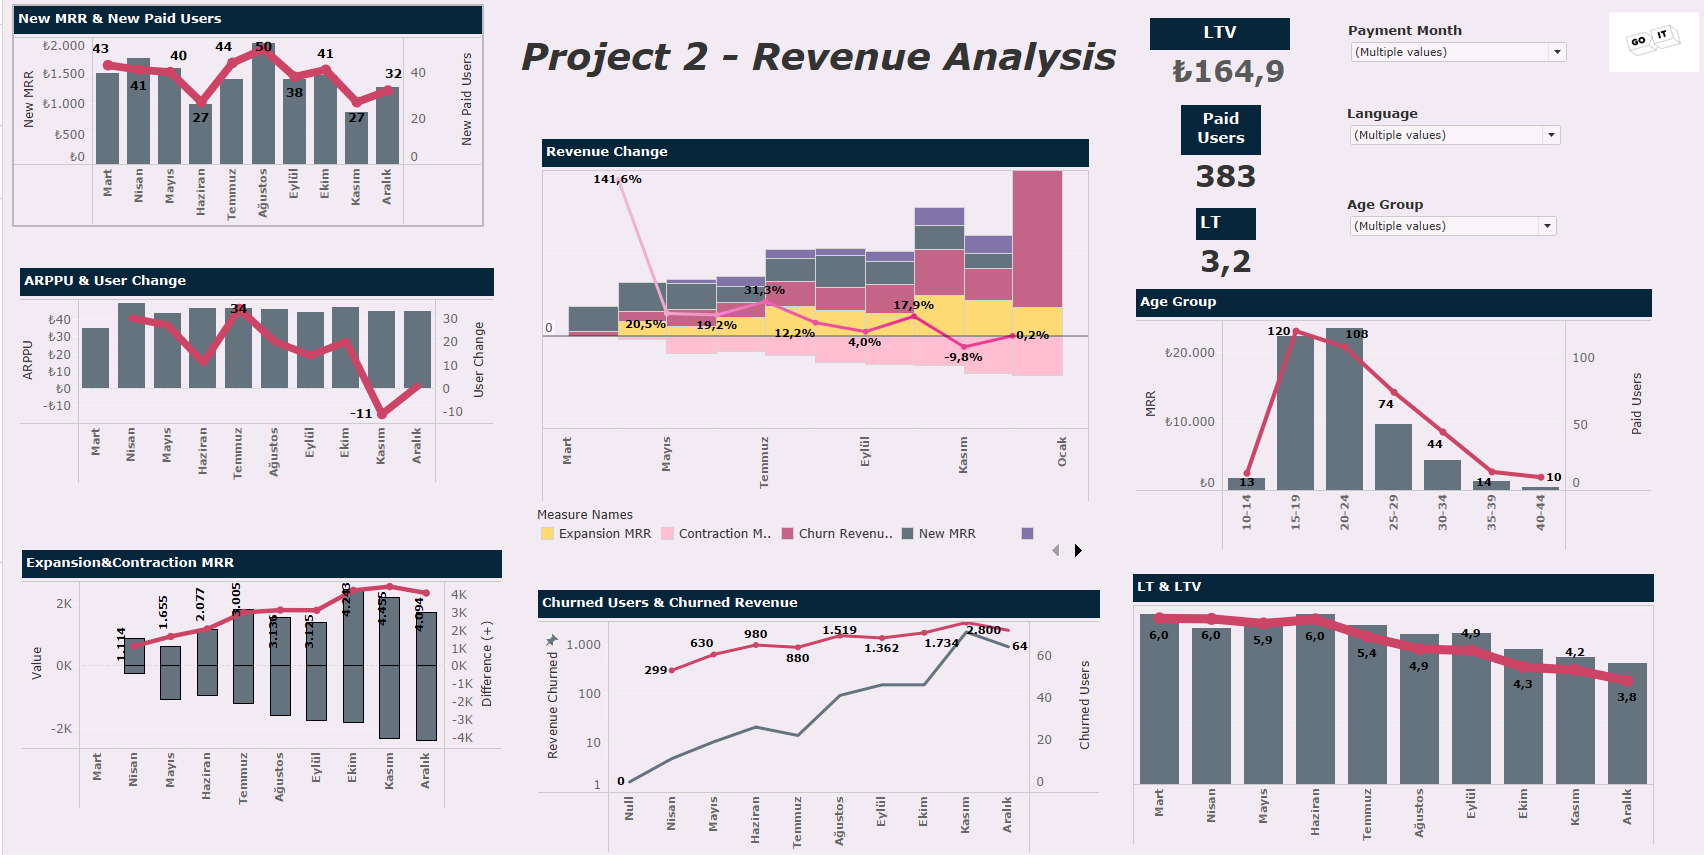

What the dashboard file says about the page in this screenshot:
{"tool":"tableau","page":{"name":"Dashboard 1","canvas":[1000,1000],"units":"permille","ordinal":0},"visuals":[{"type":"worksheet","title":"New MRR & New Paid Users","mark":"Automatic","rows":["new_mrr","Calculation_1408219314501283840"],"cols":["payment_month"],"box":[6.4,9.3,273.8,255.8]},{"type":"title","box":[301.9,15.2,369.8,104]},{"type":"image","param":"Image/goit logo.png","box":[939.7,16.4,52.7,74.8]},{"type":"worksheet","title":"LTV","mark":"Automatic","box":[671.1,23.4,88.9,88.8]},{"type":"filter","title":"New MRR & New Paid Users","param":"[federated.0uo0pya1row3hg16pvwvp0c0digc].[mn:payment_month:ok]","box":[787,28,129.9,54.9]},{"type":"worksheet","title":"Paid Users","mark":"Automatic","box":[689.3,125,70.8,120.3]},{"type":"filter","title":"New MRR & New Paid Users","param":"[federated.0uo0pya1row3hg16pvwvp0c0digc].[none:language:nk]","box":[786.4,125,127,57.2]},{"type":"worksheet","title":"Revenue Change","mark":"Automatic","rows":["total_revenue"],"cols":["payment_month"],"box":[315.4,164.7,320.1,424.1]},{"type":"filter","title":"New MRR & New Paid Users","param":"[federated.0uo0pya1row3hg16pvwvp0c0digc].[none:Calculation_2027182789416120329:n","box":[786.4,231.3,124.6,50.2]},{"type":"worksheet","title":"LT","mark":"Text","box":[698.1,245.3,53.2,82.9]},{"type":"worksheet","title":"Arppu & User Change","mark":"Area","rows":["Calculation_1408219314503467011","Calculation_2027182789310177280"],"cols":["payment_month"],"box":[10,315.4,277.4,252.3]},{"type":"worksheet","title":"Age Group","mark":"Line","rows":["Calculation_1408219314501414913","Calculation_1408219314501582850"],"cols":["Calculation_2027182789416120329"],"box":[663,339.9,301.9,306.1]},{"type":"legend","title":"Revenue Change","param":"[federated.0uo0pya1row3hg16pvwvp0c0digc].[:Measure Names]","box":[312.5,594.6,324.2,82.9]},{"type":"worksheet","title":"Expansion & Contraction MRR","mark":"Bar","rows":["Calculation_2027182789395669000"],"cols":["payment_month"],"box":[11.1,644.9,280.9,302.6]},{"type":"worksheet","title":"LT & LTV","mark":"Automatic","rows":["Calculation_1408219314600951831","Calculation_1408219314597154838"],"cols":["payment_month"],"box":[661.2,672.9,304.9,316.6]},{"type":"worksheet","title":"Churned Users & Churned Revenue (2)","mark":"Automatic","rows":["churned_revenue","Calculation_1408219314507255812"],"cols":["churn_month"],"box":[313.1,691.6,328.9,307.2]}]}

Visuals, with their boxes on the dashboard's canvas, which has no fixed pixel size, in thousandths of its width and height (x1, y1, x2, y2). These are canvas units, not pixel positions in the 1704x855 screenshot, which may show the page scaled, cropped or inside an application window:
"New MRR & New Paid Users" worksheet: 6/9/280/265
title: 302/15/672/119
image: 940/16/992/91
"LTV" worksheet: 671/23/760/112
"New MRR & New Paid Users" filter: 787/28/917/83
"Paid Users" worksheet: 689/125/760/245
"New MRR & New Paid Users" filter: 786/125/913/182
"Revenue Change" worksheet: 315/165/636/589
"New MRR & New Paid Users" filter: 786/231/911/282
"LT" worksheet (Text marks): 698/245/751/328
"Arppu & User Change" worksheet (Area marks): 10/315/287/568
"Age Group" worksheet (Line marks): 663/340/965/646
"Revenue Change" legend: 312/595/637/678
"Expansion & Contraction MRR" worksheet (Bar marks): 11/645/292/948
"LT & LTV" worksheet: 661/673/966/990
"Churned Users & Churned Revenue (2)" worksheet: 313/692/642/999
